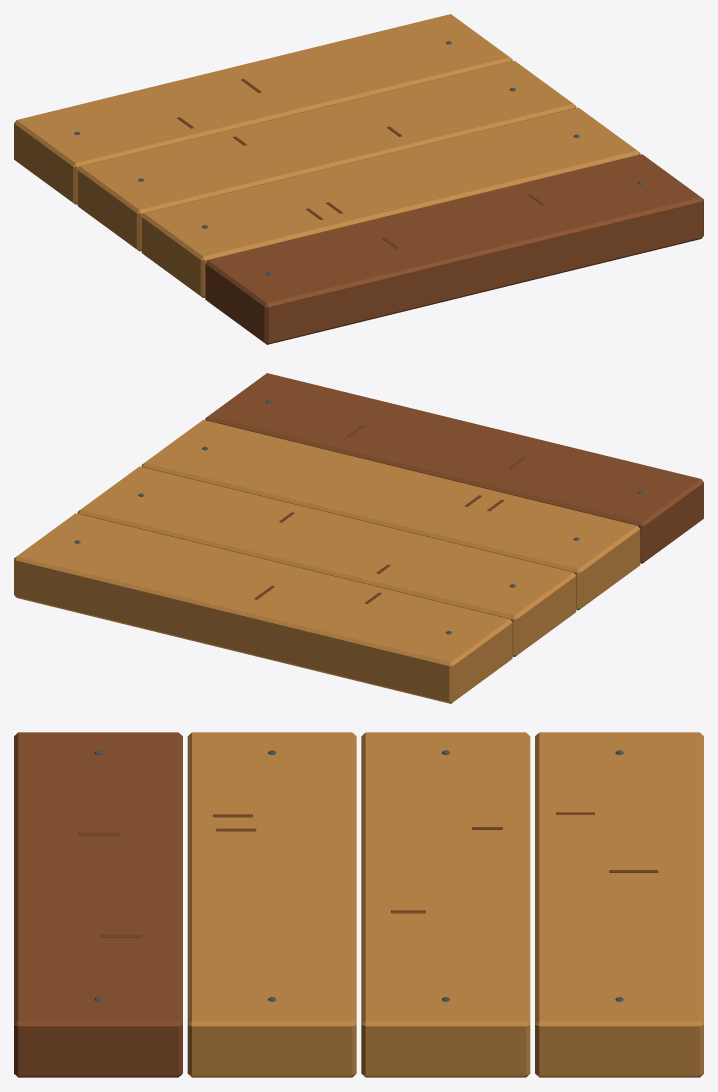
Rendered from floor_tile.glb.
The picture shows the model from 3 angles, top to bottom: view 1: azimuth 30°, elevation 25°; view 2: azimuth 150°, elevation 25°; view 3: azimuth 270°, elevation 25°; orthographic projection. The views are drawn at different scales.
Parts seen in each view (by area): view 1: floor_tile__body__oak3, floor_tile__body__oak; view 2: floor_tile__body__oak3, floor_tile__body__oak; view 3: floor_tile__body__oak3, floor_tile__body__oak, floor_tile__body__grain.
Part boxes in pixels (x1=…): floor_tile__body__oak3: x1=14, y1=14, x2=640, y2=297; floor_tile__body__oak: x1=205, y1=154, x2=703, y2=344; floor_tile__body__oak3: x1=14, y1=420, x2=640, y2=703; floor_tile__body__oak: x1=205, y1=373, x2=703, y2=563; floor_tile__body__oak3: x1=187, y1=732, x2=703, y2=1077; floor_tile__body__oak: x1=14, y1=732, x2=182, y2=1077; floor_tile__body__grain: x1=79, y1=812, x2=658, y2=937.
Size of the model in its own units: 0.994 by 0.093 by 0.993.
